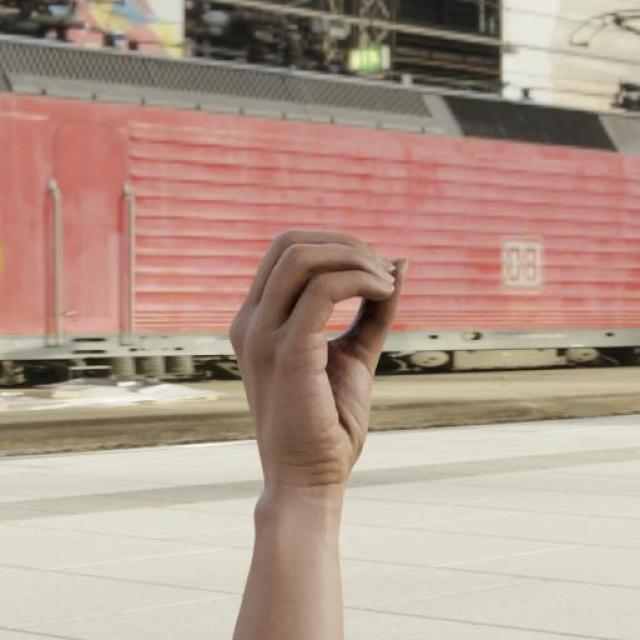O: (209, 195, 438, 537)
